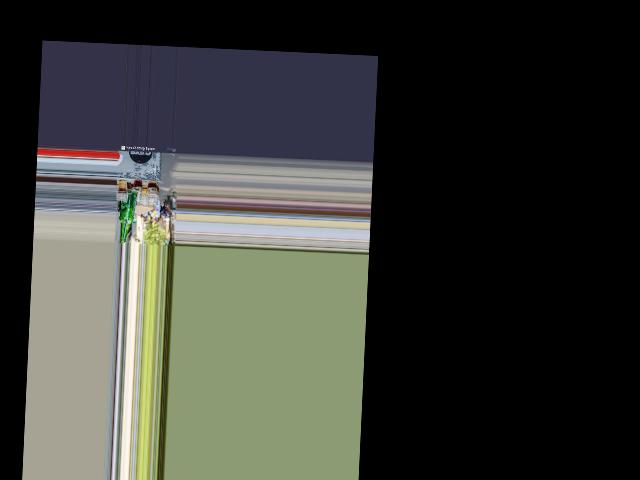beer: (118, 185, 138, 242)
